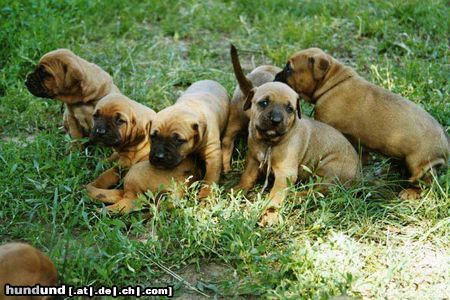tosa_inu: (273, 46, 450, 201), (227, 81, 360, 225), (78, 93, 205, 218), (144, 79, 231, 208), (23, 48, 121, 141), (220, 41, 282, 179)
